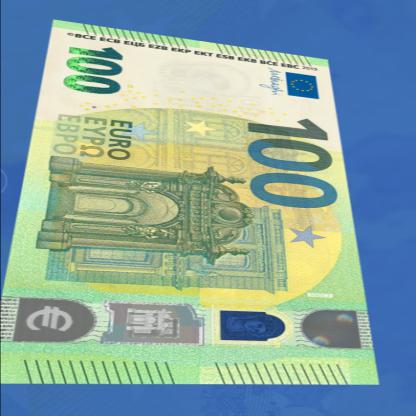euro_banknote: (1, 22, 378, 383)
